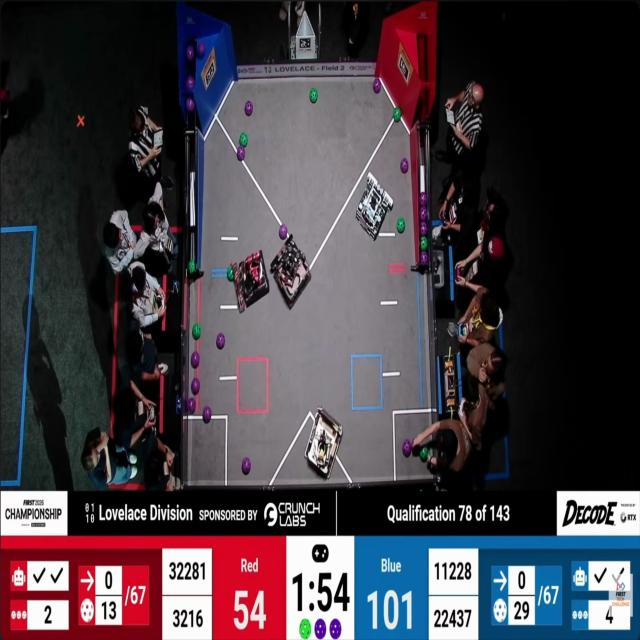artifact_green: (300, 619, 311, 639), (420, 447, 430, 462), (239, 132, 248, 147), (310, 88, 318, 104), (188, 259, 196, 274), (193, 324, 201, 339), (397, 218, 405, 233), (393, 107, 401, 122), (227, 266, 234, 282), (420, 252, 428, 265), (420, 237, 428, 250)
artifact_purple: (330, 619, 341, 639), (315, 619, 326, 639), (403, 439, 413, 457), (242, 457, 251, 475), (216, 333, 225, 350), (191, 378, 200, 395), (203, 406, 212, 423), (187, 397, 196, 413), (400, 158, 409, 173), (191, 352, 199, 368), (279, 224, 287, 240), (197, 42, 205, 58), (187, 45, 195, 61), (186, 98, 195, 112), (245, 101, 253, 116), (187, 76, 195, 90), (373, 79, 381, 93), (237, 147, 245, 161), (420, 192, 427, 206), (420, 207, 427, 221), (420, 222, 427, 236), (421, 252, 428, 265)
